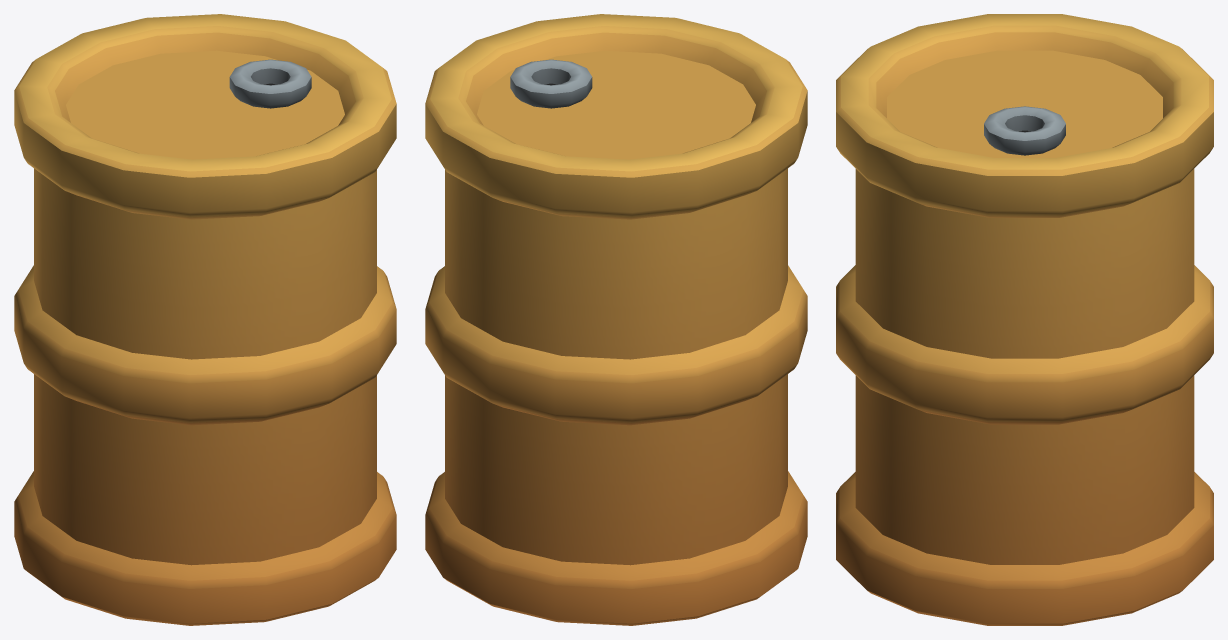
The model's file is Fuel_B_Barrel.glb.
3 views of the same model, side by side, from view 1: azimuth 30°, elevation 25°; view 2: azimuth 150°, elevation 25°; view 3: azimuth 270°, elevation 25° (orthographic).
Visible parts, largest first — view 1: Fuel_B_Barrel; view 2: Fuel_B_Barrel; view 3: Fuel_B_Barrel.
Part boxes in pixels (<box>): Fuel_B_Barrel: <box>14,14,396,625</box>; Fuel_B_Barrel: <box>425,14,807,625</box>; Fuel_B_Barrel: <box>836,14,1213,625</box>.
Bounding box in the file's own units: 0.75 × 1.01 × 0.75.
1 material, 1 textured.
